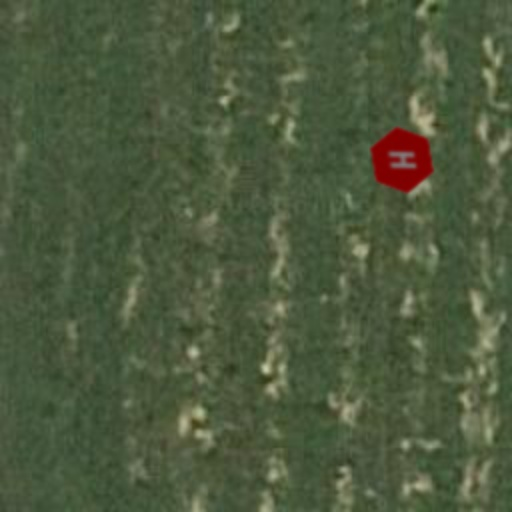hexagon: (362, 120, 442, 200)
